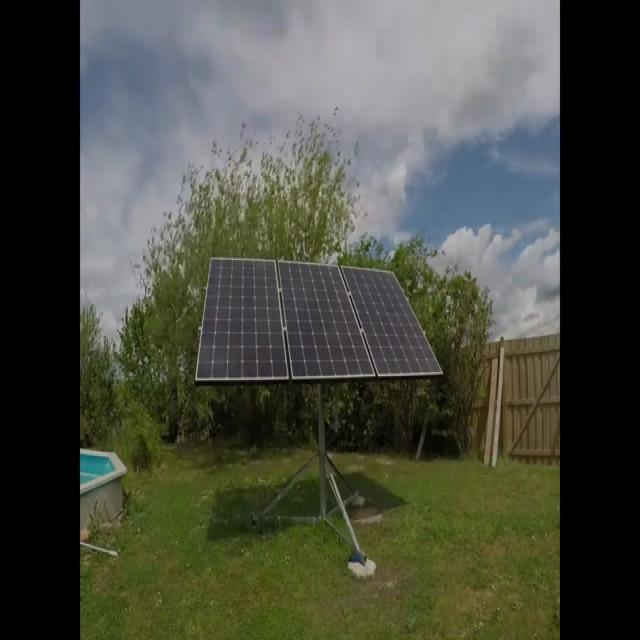Normal Solar Panel: (280, 261, 376, 380), (197, 259, 289, 383), (344, 267, 443, 377)
